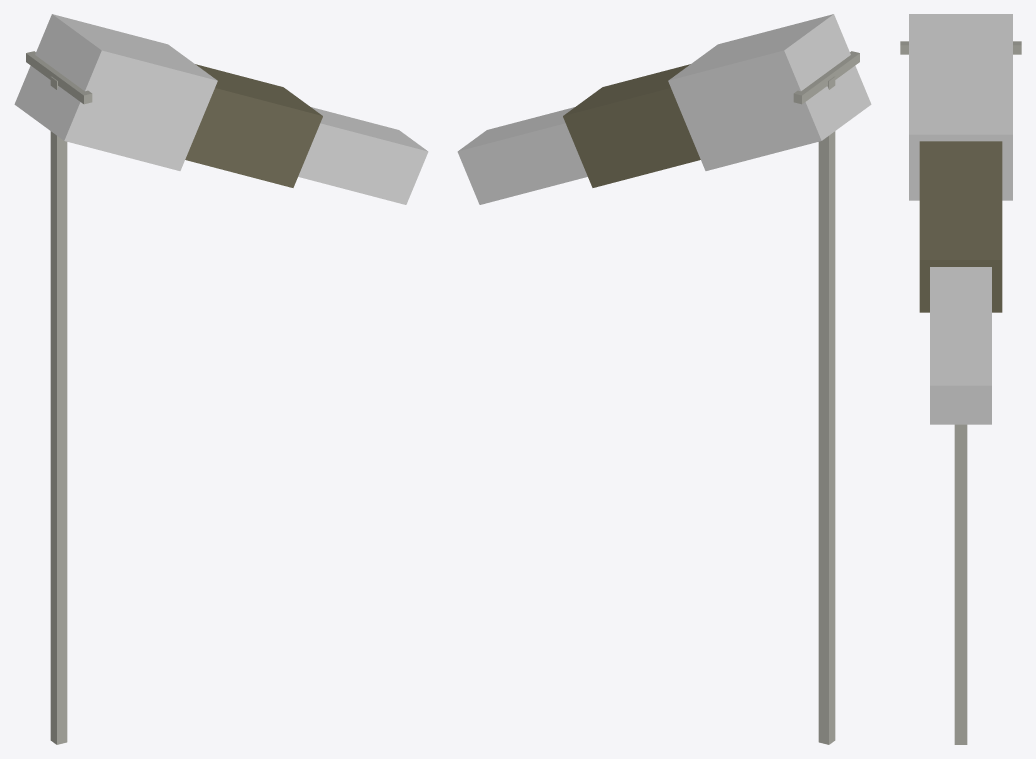
The model's file is SM_MangaViento_v1_Media_LOD0.fbx.
3 renders of one model, left to right at view 1: azimuth 30°, elevation 25°; view 2: azimuth 150°, elevation 25°; view 3: azimuth 270°, elevation 25°, orthographic. The views are drawn at different scales.
Parts seen in each view (by area): view 1: SM_ambiente_aerodromo_v1_LOD0; view 2: SM_ambiente_aerodromo_v1_LOD0; view 3: SM_ambiente_aerodromo_v1_LOD0.
Boxes of the visible parts, x1,y1,x2,y2 form: SM_ambiente_aerodromo_v1_LOD0: (14, 14, 428, 744); SM_ambiente_aerodromo_v1_LOD0: (457, 14, 871, 744); SM_ambiente_aerodromo_v1_LOD0: (900, 14, 1021, 744).
Size of the model in its own units: 3.54 by 6.37 by 0.95.
